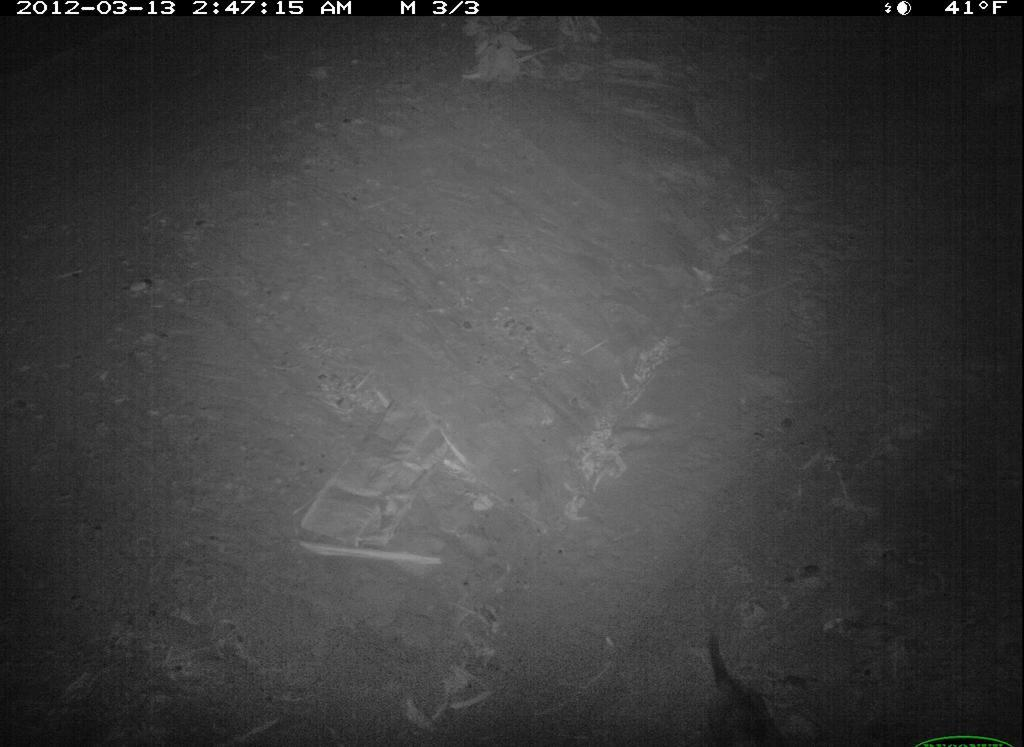cat: (694, 623, 802, 747)
